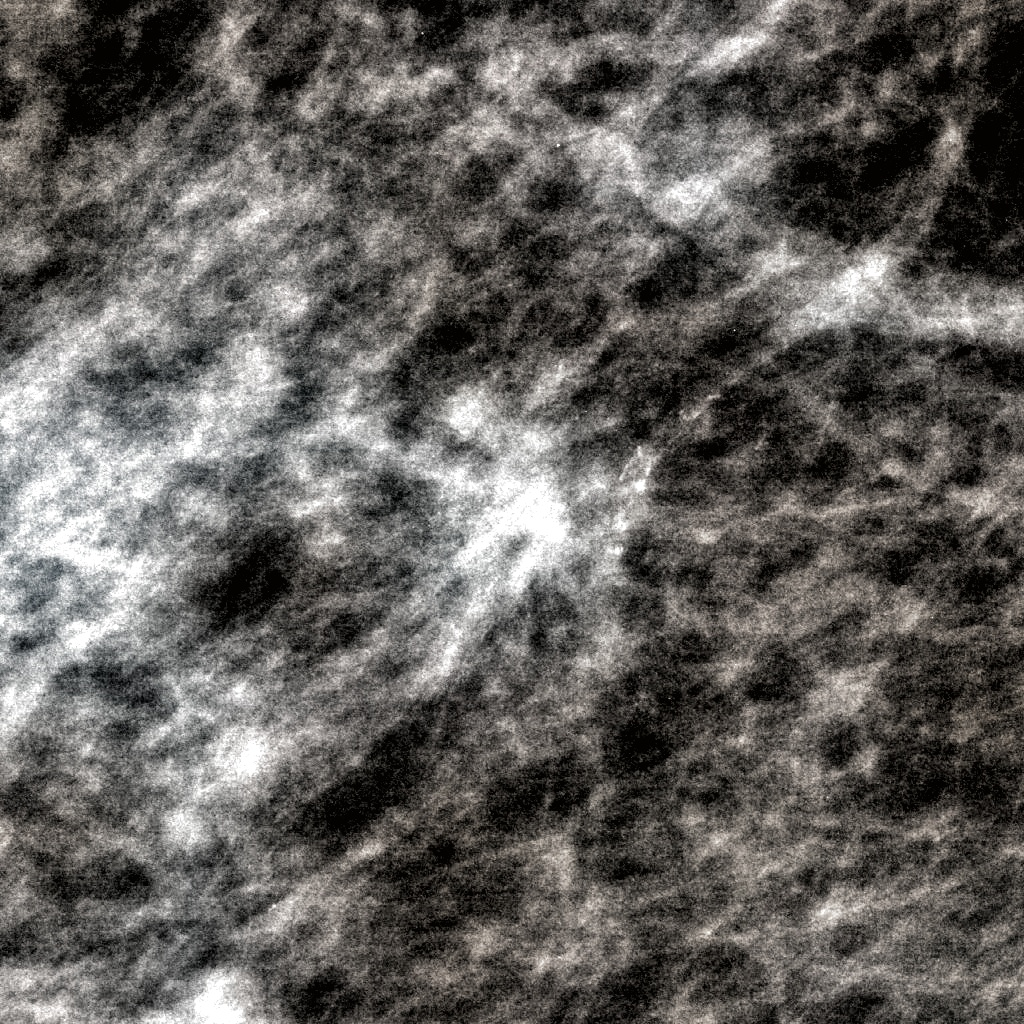tumor: (367, 368, 657, 656)
